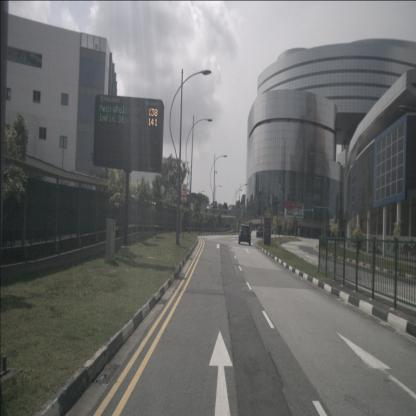vehicle-car: (238, 224, 251, 245), (256, 226, 264, 238)
